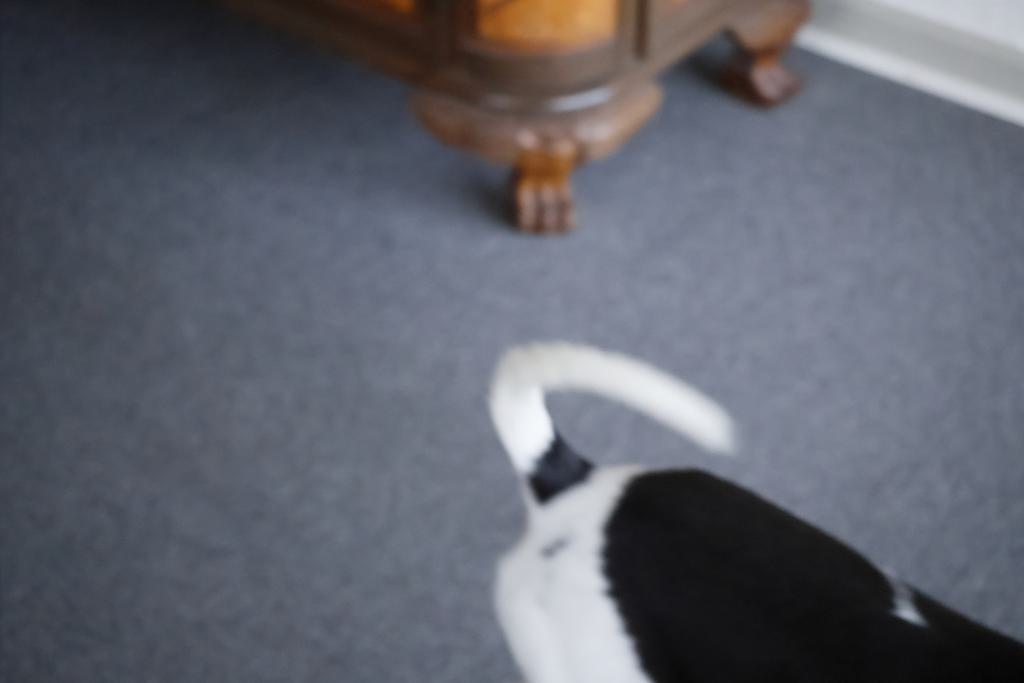Dog: (469, 309, 1024, 683)
